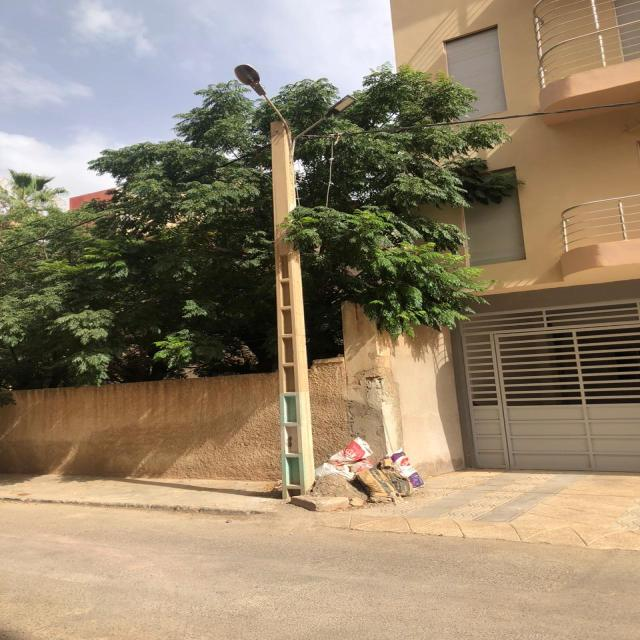Electric pole: (235, 64, 315, 500)
